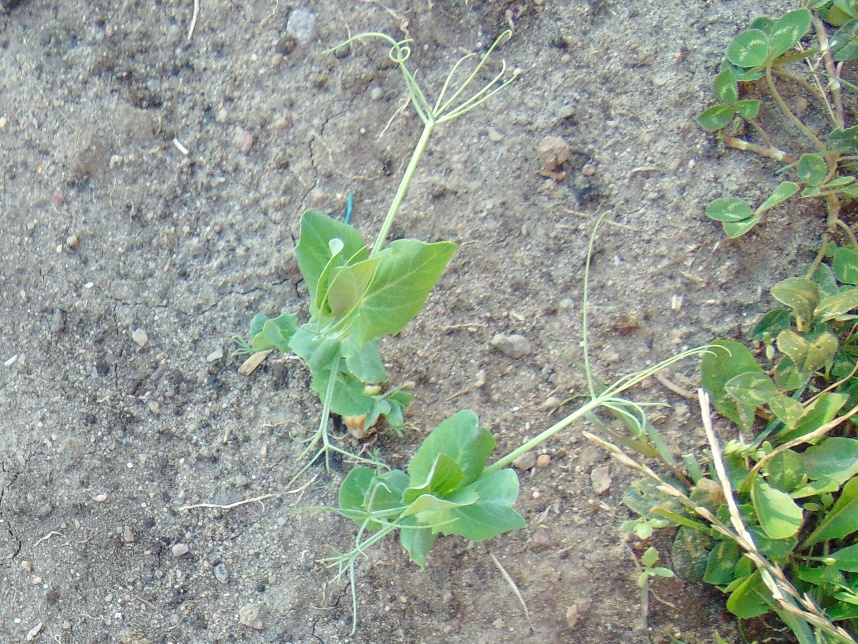crop: (262, 187, 457, 466), (310, 39, 505, 317), (313, 400, 530, 618), (437, 325, 642, 499)
weed: (664, 252, 858, 644), (697, 1, 858, 255), (623, 502, 675, 589)
